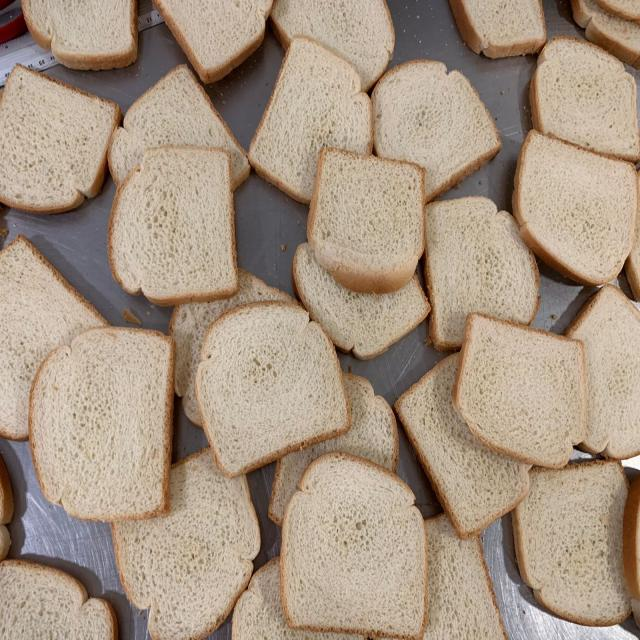sliced_bread: (110, 448, 261, 640), (30, 325, 178, 520), (283, 452, 428, 640), (195, 302, 350, 477), (109, 146, 238, 306), (453, 317, 587, 470), (512, 460, 633, 628), (513, 131, 639, 289), (373, 60, 502, 206), (0, 64, 123, 214), (423, 196, 541, 349), (306, 147, 426, 294), (529, 35, 640, 162)
